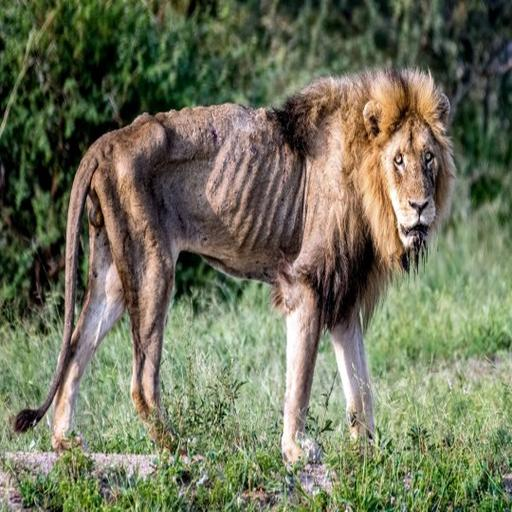Lion: (1, 52, 462, 502)
